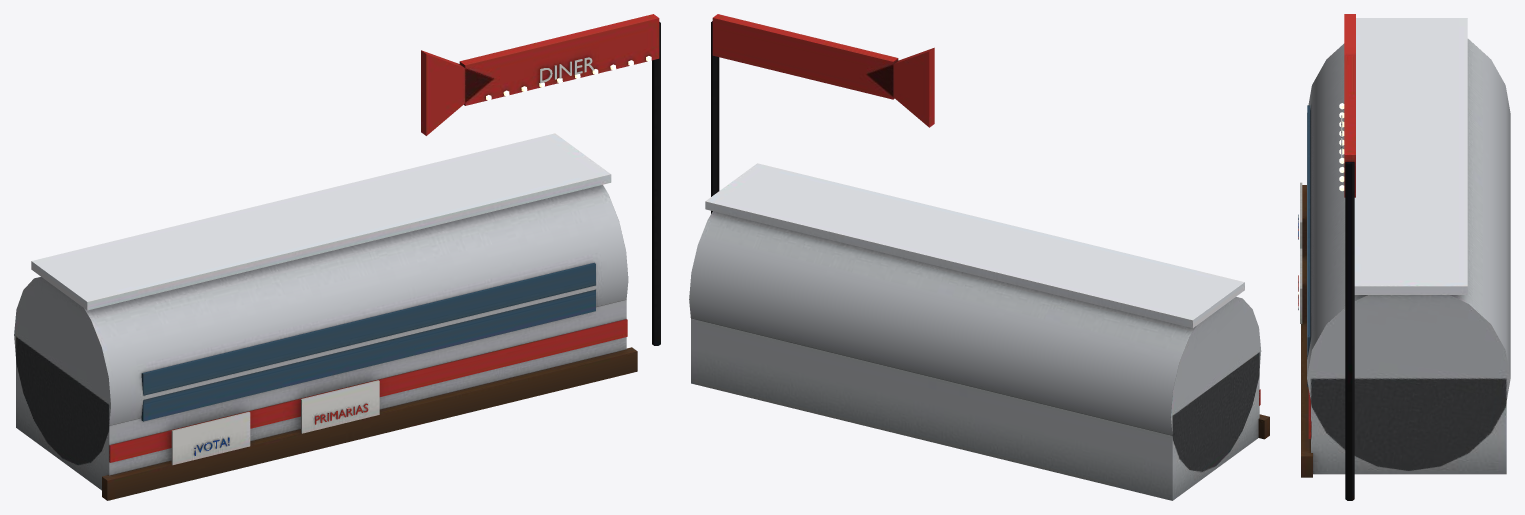
Rendered from diner_flecha.glb.
3 renders of one model, left to right at view 1: azimuth 30°, elevation 25°; view 2: azimuth 150°, elevation 25°; view 3: azimuth 270°, elevation 25°, orthographic. The views are drawn at different scales.
Visible parts, largest first — view 1: diner_flecha; view 2: diner_flecha; view 3: diner_flecha.
Part boxes in pixels (<box>): diner_flecha: <box>14,14,660,500</box>; diner_flecha: <box>689,14,1269,500</box>; diner_flecha: <box>1298,14,1510,500</box>.
Size of the model in its own units: 17.8 by 10.31 by 5.42.
Materials: 1 (1 with a texture image).
